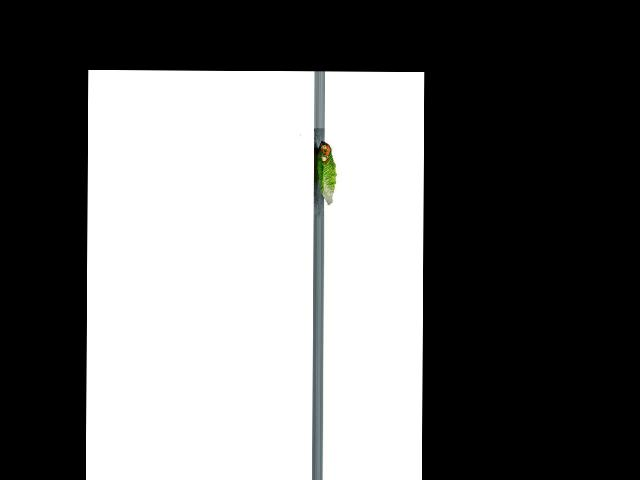lettuce: (313, 138, 338, 206)
